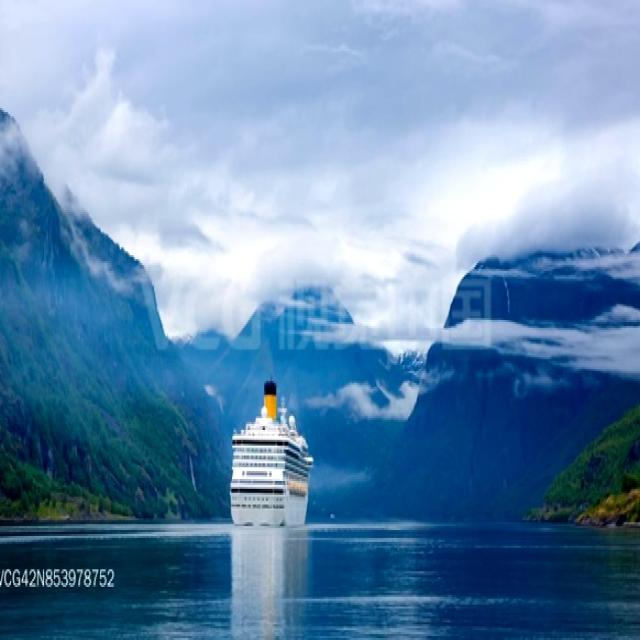passenger ship: (228, 378, 311, 524)
